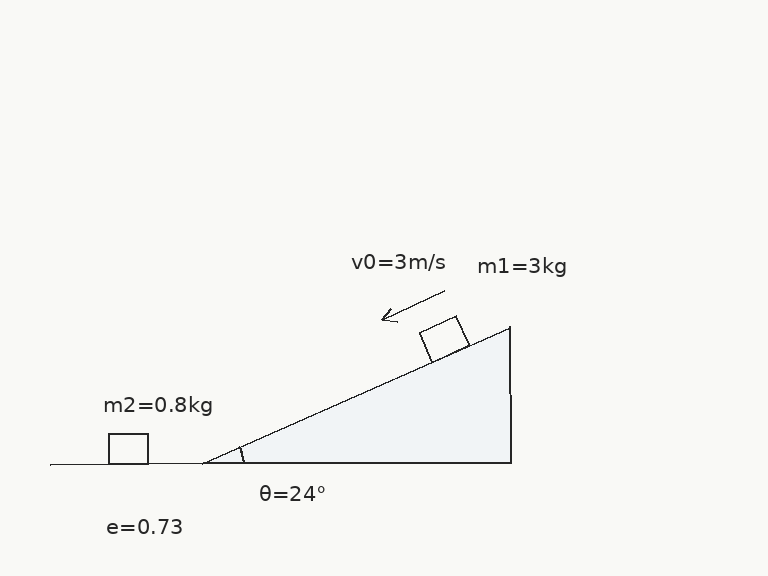block: (416, 315, 471, 364), (106, 432, 150, 465)
ramp: (201, 324, 512, 465)
